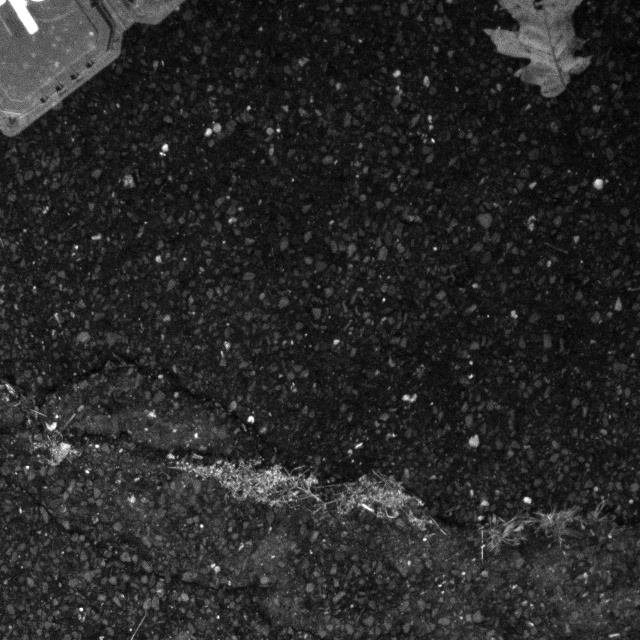container: (0, 0, 241, 141)
